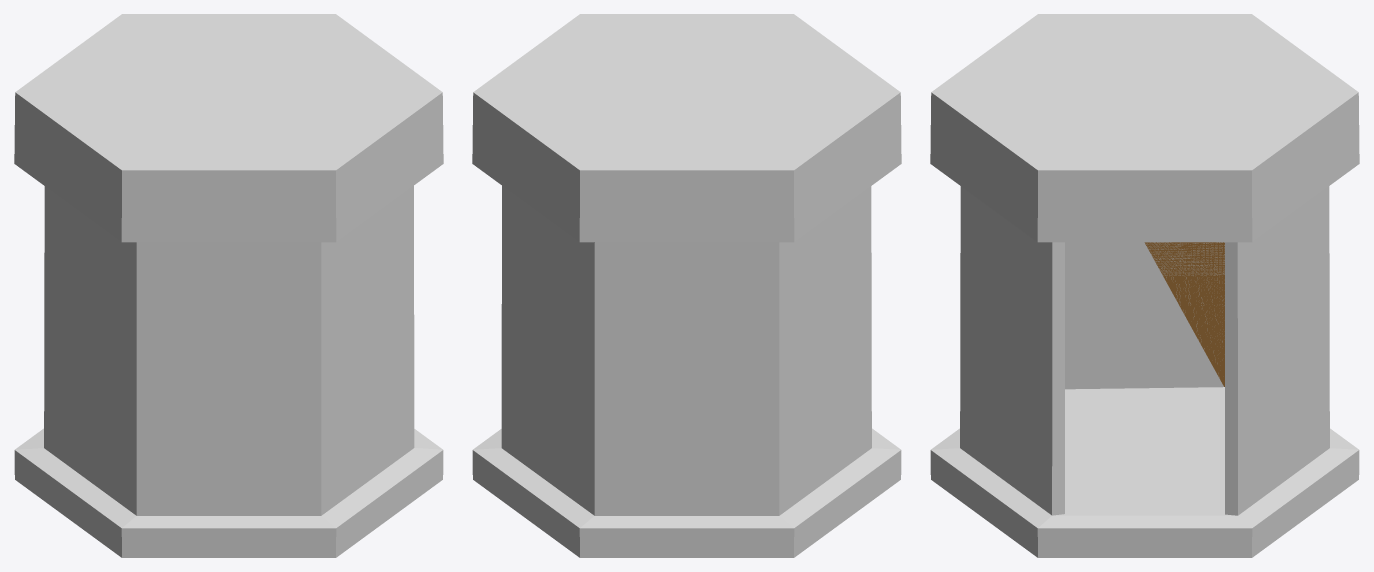
File: elevator.fbx
3 views of the same model, side by side, from view 1: azimuth 30°, elevation 25°; view 2: azimuth 150°, elevation 25°; view 3: azimuth 270°, elevation 25° (orthographic).
Visible parts, largest first — view 1: Цилиндр; view 2: Цилиндр; view 3: Цилиндр.
Boxes of the visible parts, x1,y1,x2,y2 form: Цилиндр: (14, 14, 443, 557); Цилиндр: (472, 14, 901, 557); Цилиндр: (930, 14, 1359, 557).
Size of the model in its own units: 792 by 910 by 914.
